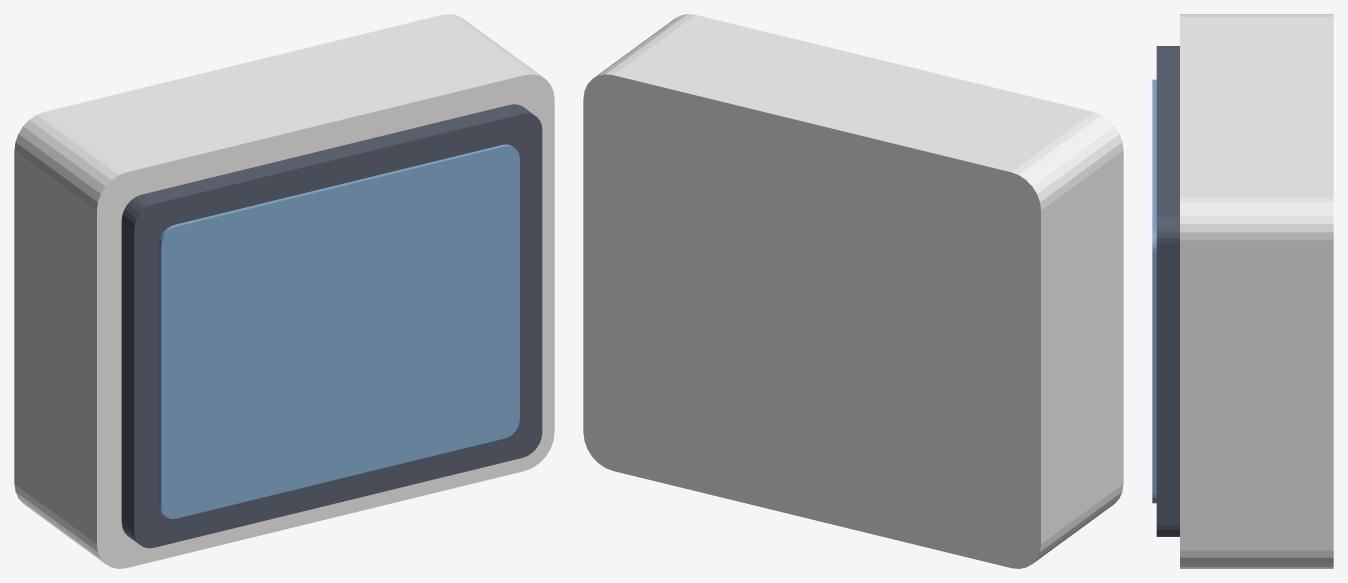
File: device.canary-display-touch169.glb
3 renders of one model, left to right at view 1: azimuth 30°, elevation 25°; view 2: azimuth 150°, elevation 25°; view 3: azimuth 270°, elevation 25°, orthographic. The views are drawn at different scales.
Size of the model in its own units: 0.0461 by 0.0381 by 0.017.
